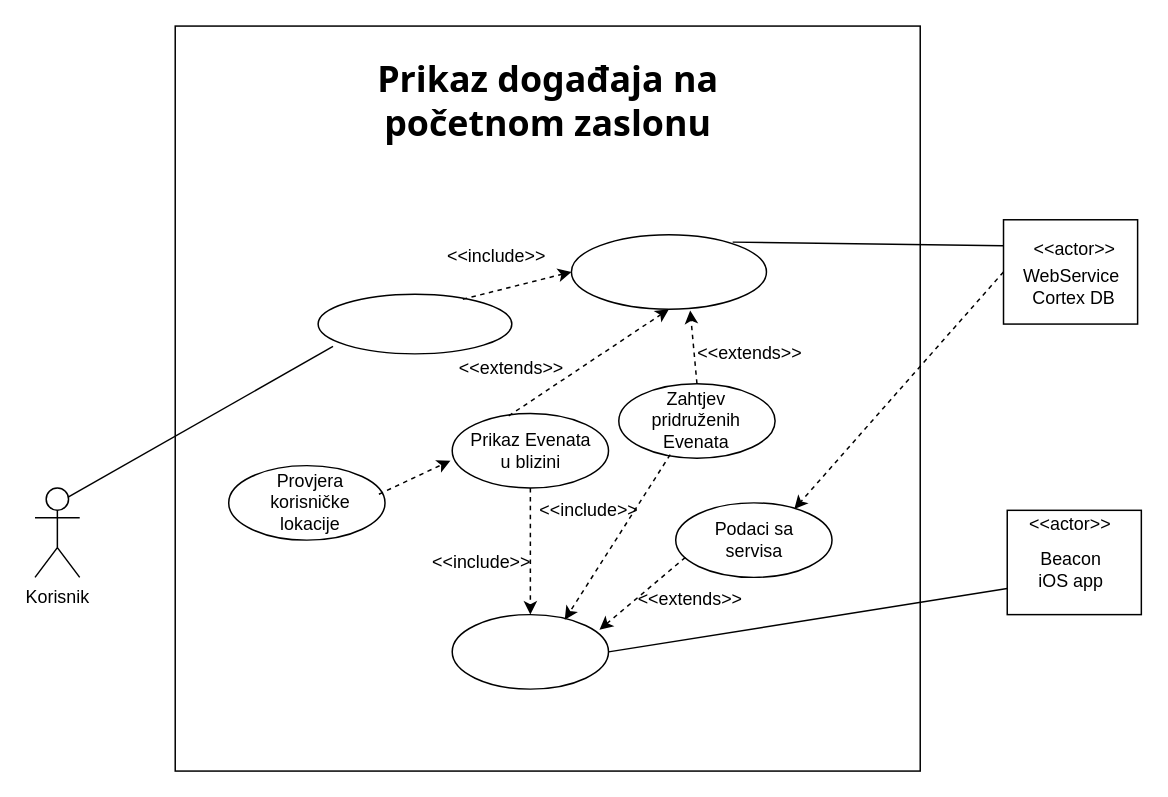
Image size: 1168x797. Some labels were removed from this diagram. Here are the shapes that lost their labels. From the top down, the centre of each, then its label:
(x=668, y=271): Zahtjev podataka sa Web servisa
(x=414, y=323): Otvaranje HomeScreena
(x=530, y=651): Prikaz Podataka
